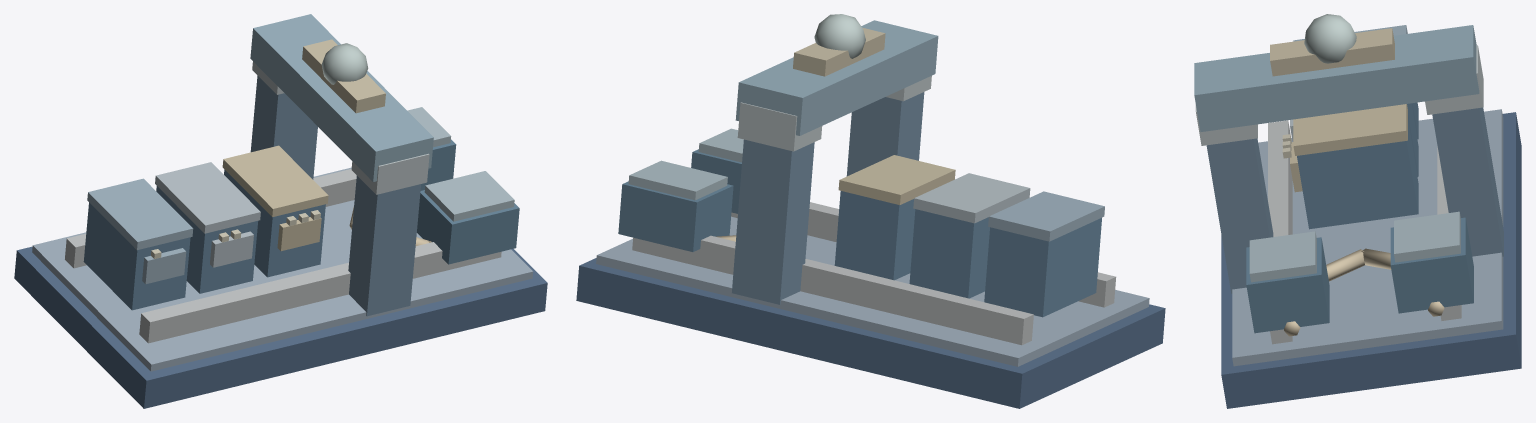
The model's file is ART-48.glb.
3 renders of one model, left to right at view 1: azimuth 30°, elevation 25°; view 2: azimuth 150°, elevation 25°; view 3: azimuth 270°, elevation 25°, orthographic. The views are drawn at different scales.
Visible parts, largest first — view 1: world; view 2: world; view 3: world.
Part boxes in pixels (left/top/right/bottom): world: left=14, top=14, right=547, bottom=408; world: left=576, top=14, right=1165, bottom=408; world: left=1194, top=14, right=1521, bottom=408.
Bounding box in the file's own units: 2 × 1.29 × 1.24.
